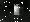person: (16, 5, 24, 16)
